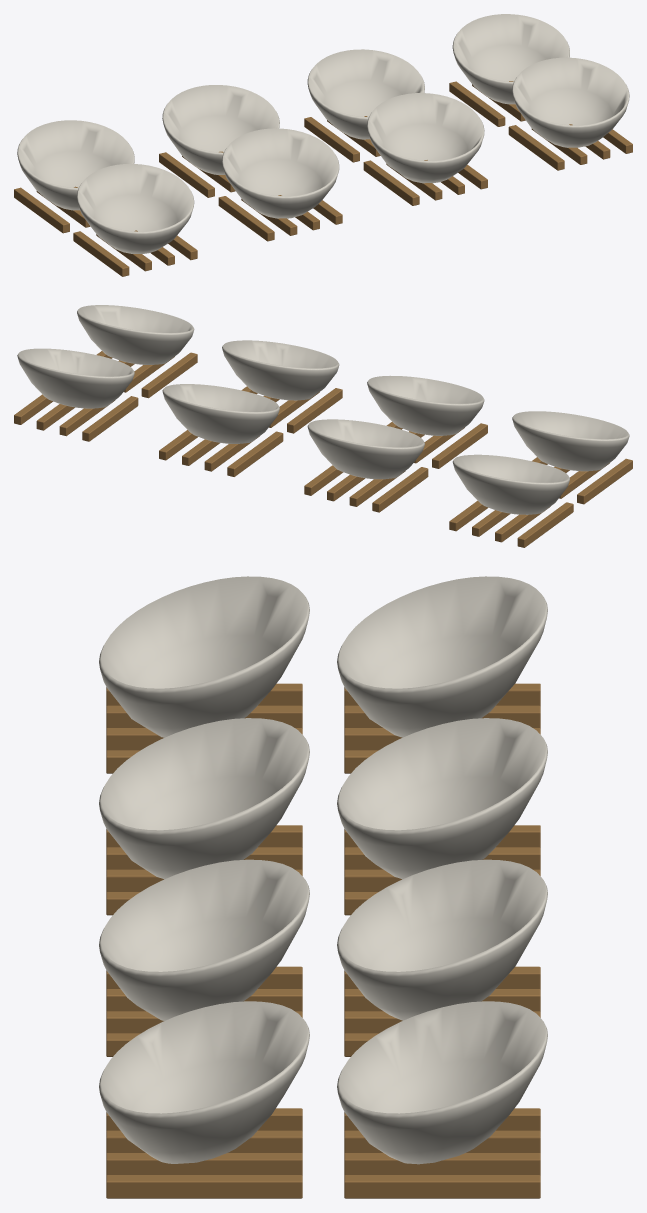
File: bowls.glb
3 views of the same model, one above another, from view 1: azimuth 30°, elevation 25°; view 2: azimuth 150°, elevation 25°; view 3: azimuth 270°, elevation 25° (orthographic). The views are drawn at different scales.
Parts seen in each view (by area): view 1: 실내 조명 베이크용 bowls; view 2: 실내 조명 베이크용 bowls; view 3: 실내 조명 베이크용 bowls.
Boxes of the visible parts, x1=… form: 실내 조명 베이크용 bowls: x1=14, y1=14, x2=632, y2=276; 실내 조명 베이크용 bowls: x1=14, y1=305, x2=632, y2=547; 실내 조명 베이크용 bowls: x1=99, y1=576, x2=547, y2=1198.
Size of the model in its own units: 2.16 by 0.2481 by 0.7774.
